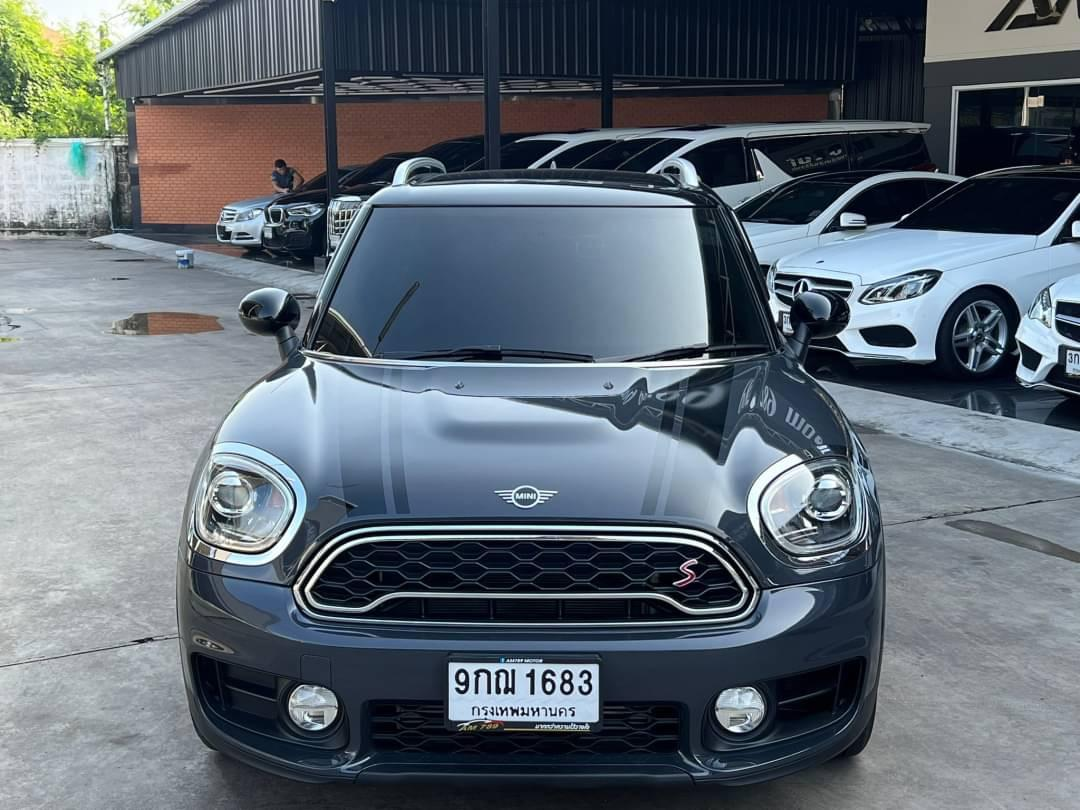license-plate: (442, 649, 602, 732)
